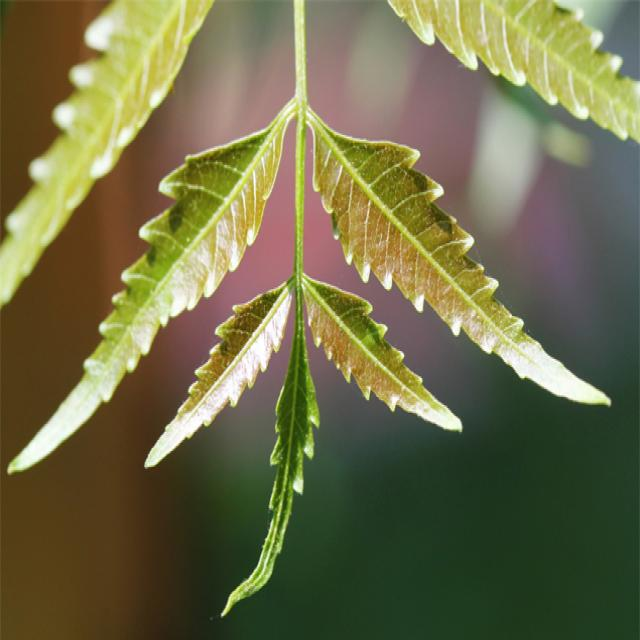Medicinal-Neem: (8, 76, 610, 618)
